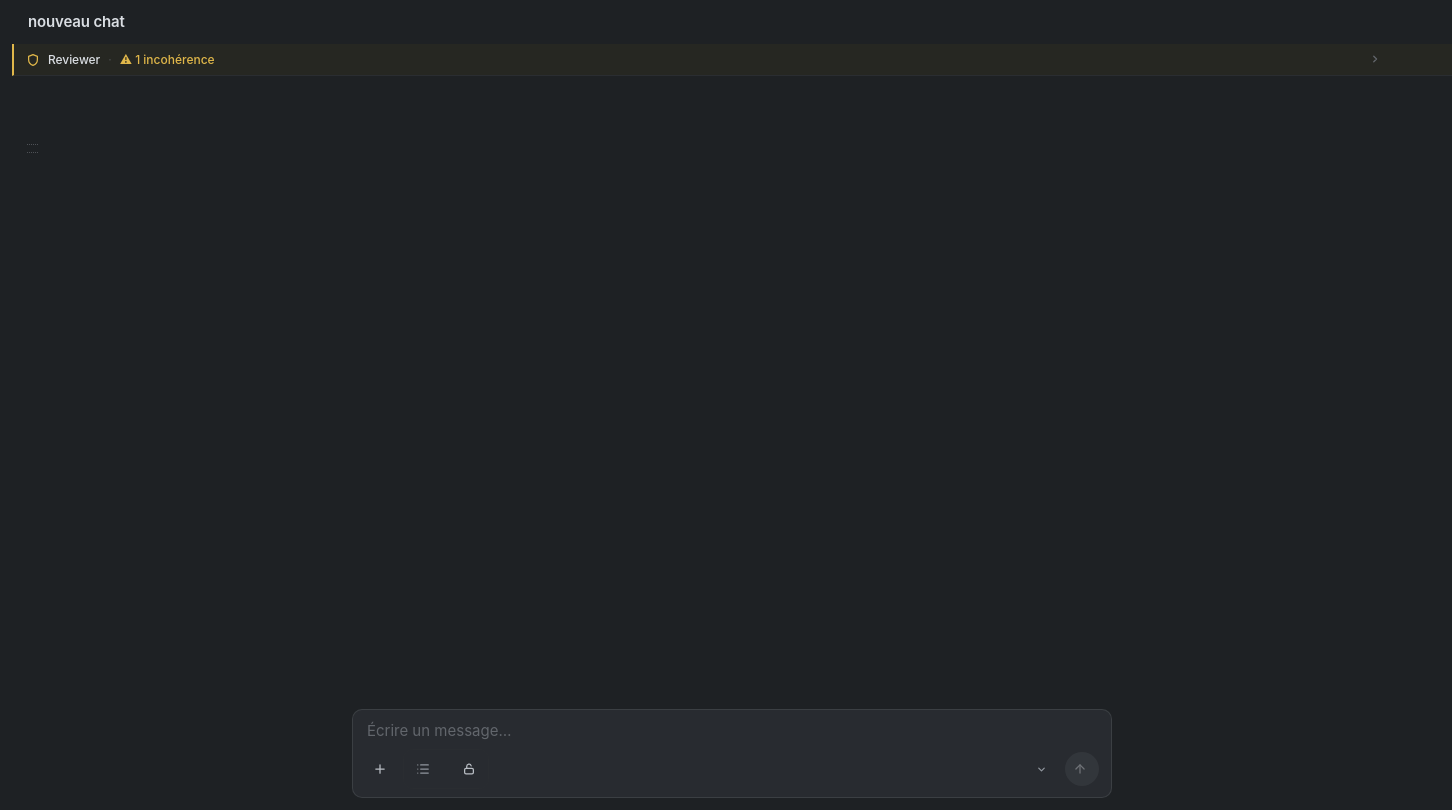
Test case: Codex A2 audit reproductions › clears correction state when the replacement review completes
Click the text "Reviewer" at (74, 60), box [48,52,100,67]
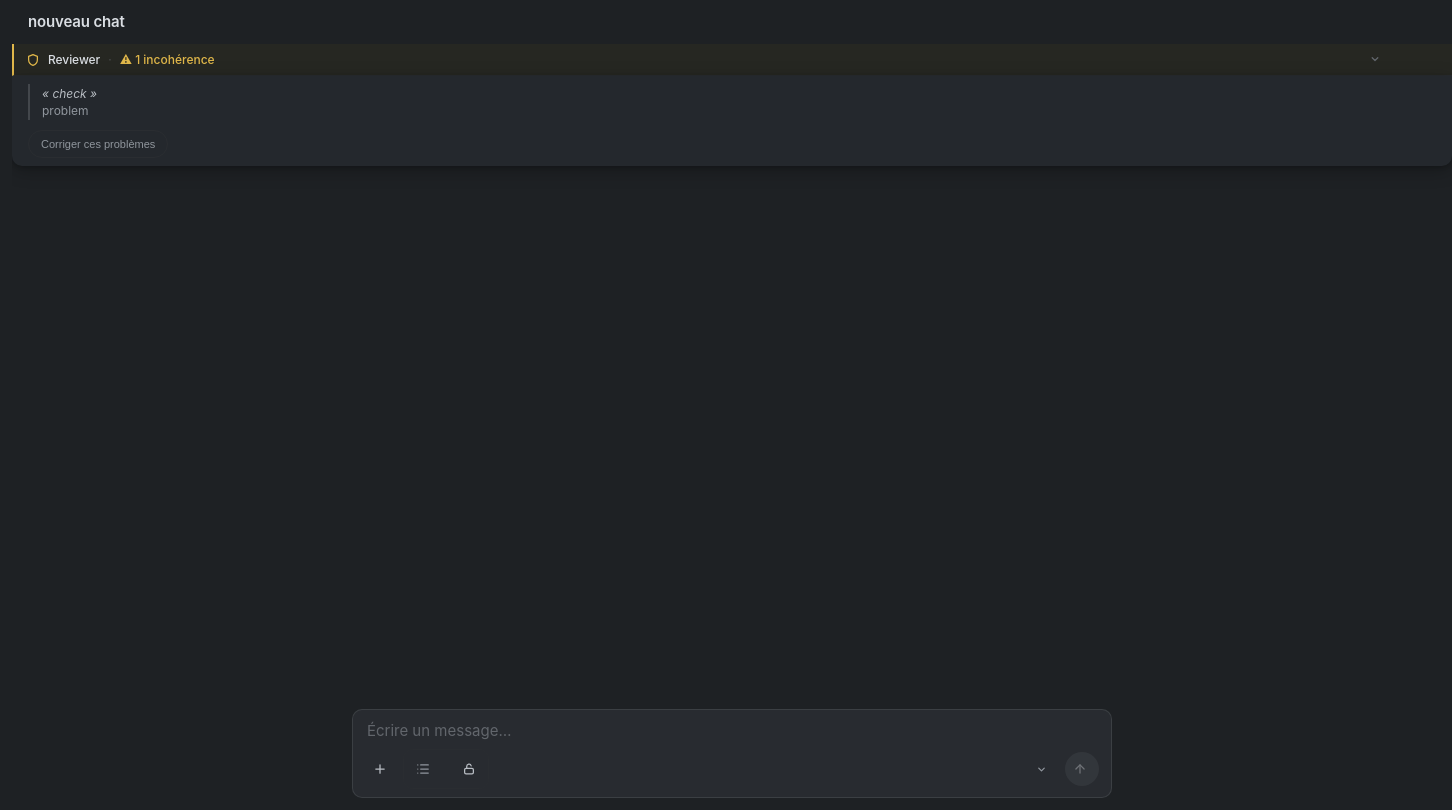
Click the button "Corriger ces problèmes" at (98, 144), box [28,130,168,158]
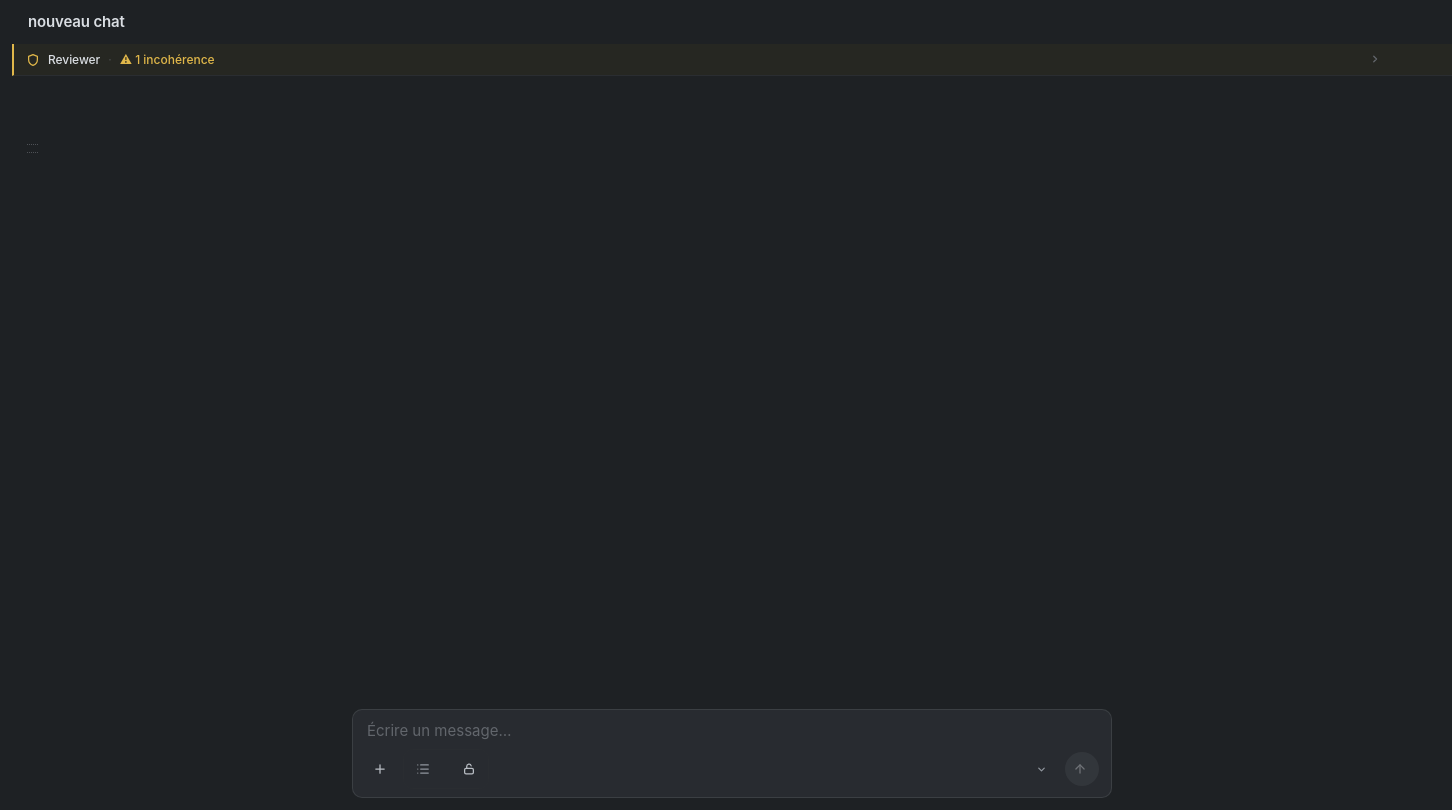
Click the text "Reviewer" at (74, 60), box [48,52,100,67]
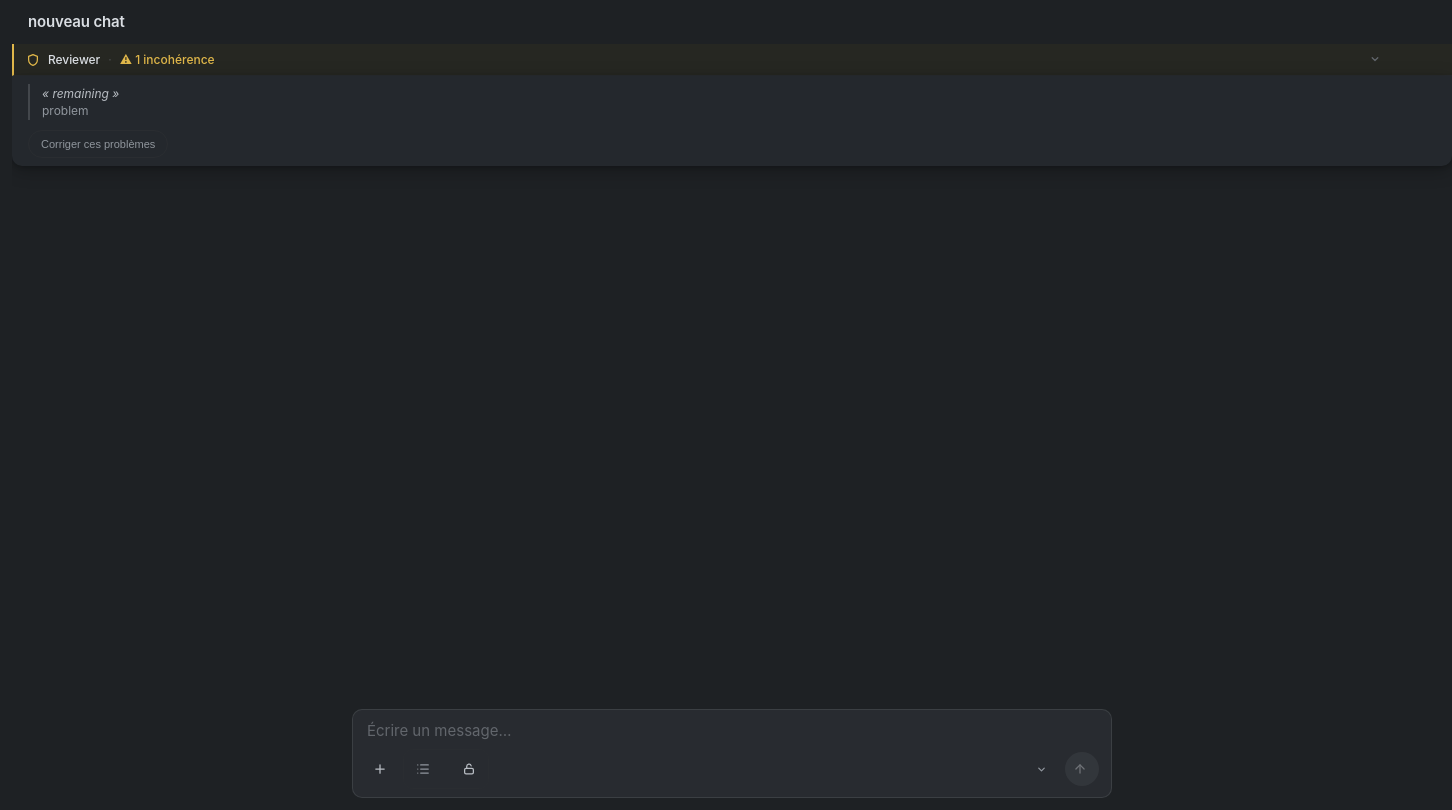
Expected: the button "Corriger ces problèmes" is enabled, [28,130,168,158]
